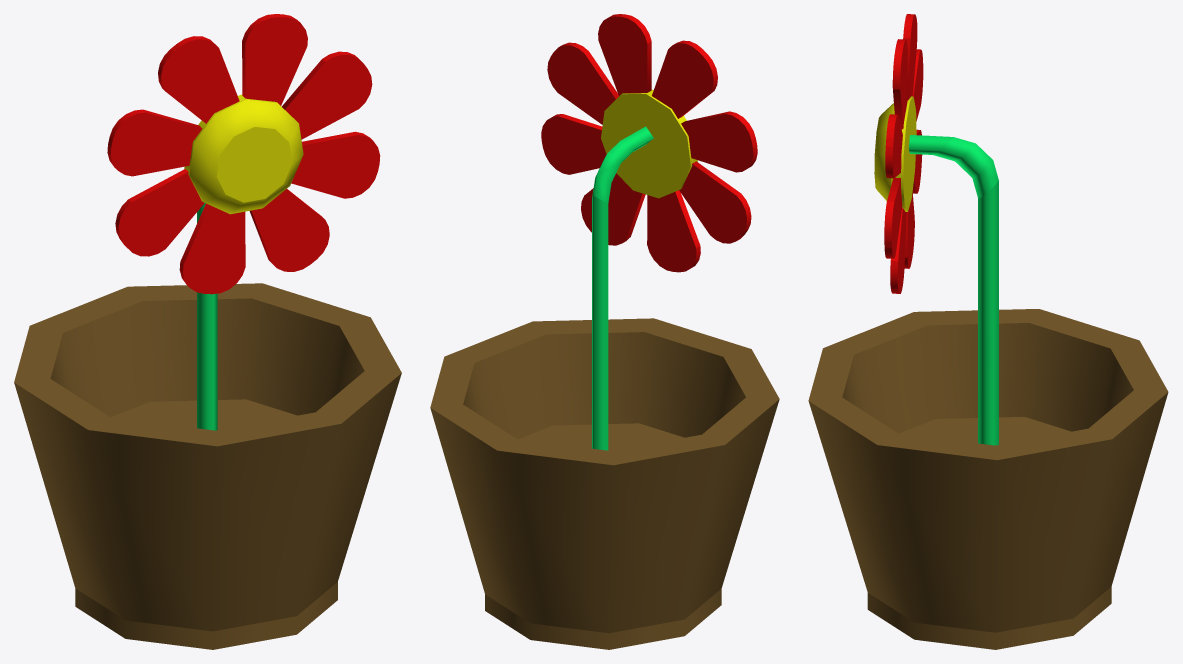
The model's file is Flower.fbx.
3 renders of one model, left to right at view 1: azimuth 30°, elevation 25°; view 2: azimuth 150°, elevation 25°; view 3: azimuth 270°, elevation 25°, orthographic. The views are drawn at different scales.
Visible parts, largest first — view 1: polySurface137; view 2: polySurface137; view 3: polySurface137.
Boxes of the visible parts, x1=… form: polySurface137: x1=14, y1=14, x2=401, y2=649; polySurface137: x1=430, y1=14, x2=779, y2=649; polySurface137: x1=808, y1=14, x2=1168, y2=649.
Size of the model in its own units: 38.37 by 71.06 by 38.56.
